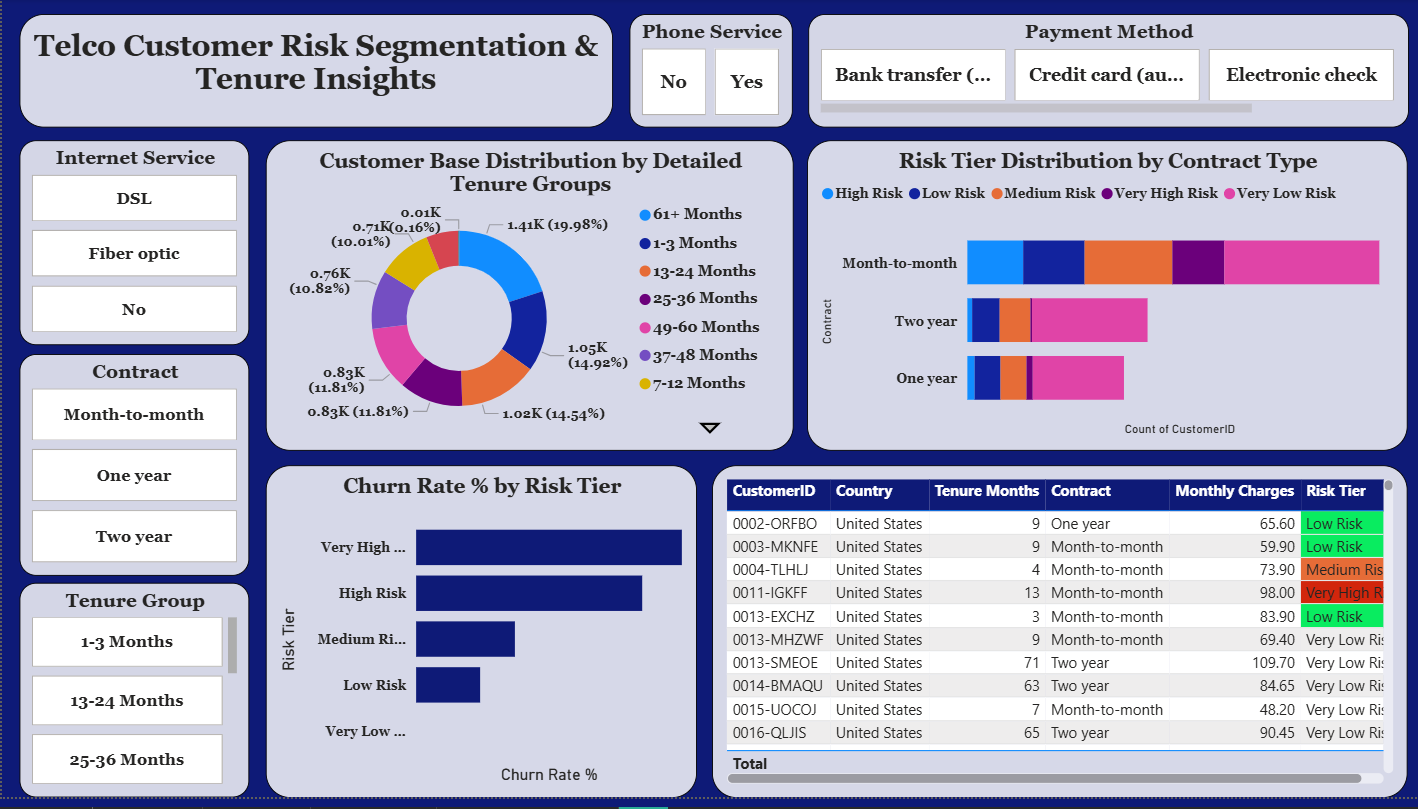

What the dashboard file says about the page in this screenshot:
{"tool":"powerbi","page":{"name":"Risk Tier","canvas":[1280,720],"ordinal":1},"visuals":[{"type":"barChart","title":"Risk Tier Distribution by Contract Type","fields":{"Category":["Telco_customer_churn.Contract"],"Y":["CountNonNull(Telco_customer_churn.CustomerID)"],"Series":["Telco_customer_churn.Risk Tier"]},"box":[726.2,127.5,541.2,280],"z":0},{"type":"tableEx","fields":{"Values":["Telco_customer_churn.CustomerID","Telco_customer_churn.Country","Telco_customer_churn.Tenure Months","Telco_customer_churn.Contract","Telco_customer_churn.Monthly Charges","Telco_customer_churn.Risk Tier"]},"box":[640,420,627.5,300],"z":1000},{"type":"donutChart","title":"Customer Base Distribution by Detailed Tenure Groups","fields":{"Category":["Telco_customer_churn.Tenure Group Detailed"],"Y":["CountNonNull(Telco_customer_churn.CustomerID)"]},"box":[237.5,127.5,476.2,280],"z":2000},{"type":"advancedSlicerVisual","title":"Tenure Group","fields":{"Values":["Telco_customer_churn.Tenure Group Detailed"]},"box":[16.2,526.2,207.5,193.8],"z":3000},{"type":"barChart","fields":{"Y":["Telco_customer_churn.Churn Rate %"],"Category":["Telco_customer_churn.Risk Tier"]},"box":[237.5,420,388.8,300],"z":4000},{"type":"advancedSlicerVisual","fields":{"Values":["Telco_customer_churn.Contract"]},"box":[16.2,320,207.5,200],"z":5000},{"type":"advancedSlicerVisual","fields":{"Values":["Telco_customer_churn.Internet Service"]},"box":[16.2,127.5,207.5,185],"z":6000},{"type":"advancedSlicerVisual","fields":{"Values":["Telco_customer_churn.Payment Method"]},"box":[727.5,13.8,541.2,102.5],"z":7000},{"type":"advancedSlicerVisual","fields":{"Values":["Telco_customer_churn.Phone Service"]},"box":[566.2,13.8,147.5,102.5],"z":8000},{"type":"textbox","box":[16.2,13.8,535,102.5],"z":9000}]}

Visuals, with their boxes in screenshot pixels (x1, y1, x2, y2), scaled from the page's 1280x720 canvas onto the 1418x809 screenshot:
"Risk Tier Distribution by Contract Type" barChart: bbox=(804, 143, 1404, 458)
tableEx - Telco_customer_churn.CustomerID x Telco_customer_churn.Country: bbox=(709, 472, 1404, 808)
"Customer Base Distribution by Detailed Tenure Groups" donutChart: bbox=(263, 143, 791, 458)
"Tenure Group" advancedSlicerVisual: bbox=(18, 591, 248, 808)
barChart - Telco_customer_churn.Churn Rate % x Telco_customer_churn.Risk Tier: bbox=(263, 472, 694, 808)
advancedSlicerVisual - Telco_customer_churn.Contract: bbox=(18, 360, 248, 584)
advancedSlicerVisual - Telco_customer_churn.Internet Service: bbox=(18, 143, 248, 351)
advancedSlicerVisual - Telco_customer_churn.Payment Method: bbox=(806, 16, 1405, 131)
advancedSlicerVisual - Telco_customer_churn.Phone Service: bbox=(627, 16, 791, 131)
textbox: bbox=(18, 16, 611, 131)
